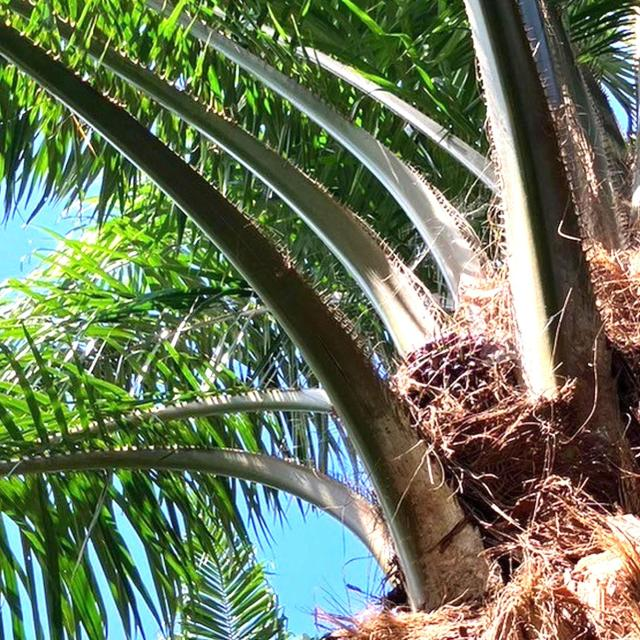ripe: (406, 332, 528, 422)
